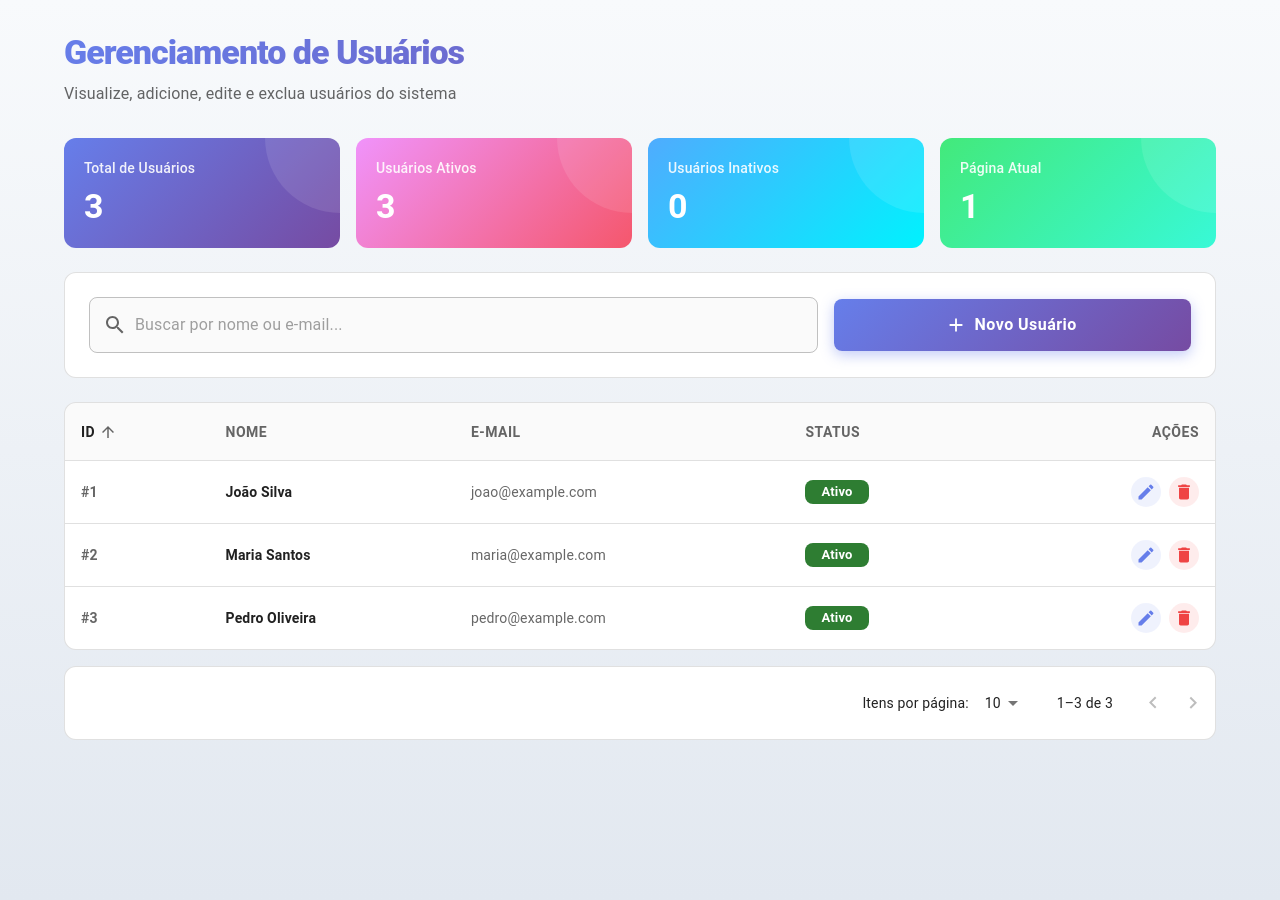
it: Users - Integration Test › deve renderizar lista de usuários e permitir criar novo usuário
Expected: the text "João Silva" is shown, [210,461,455,524]
Expected: the text "maria@example.com" is shown, [455,524,790,587]
Clicar no botão de novo usuário
Step 1. Click the button "Novo Usuário" → (1013, 325), box [834,299,1191,351]
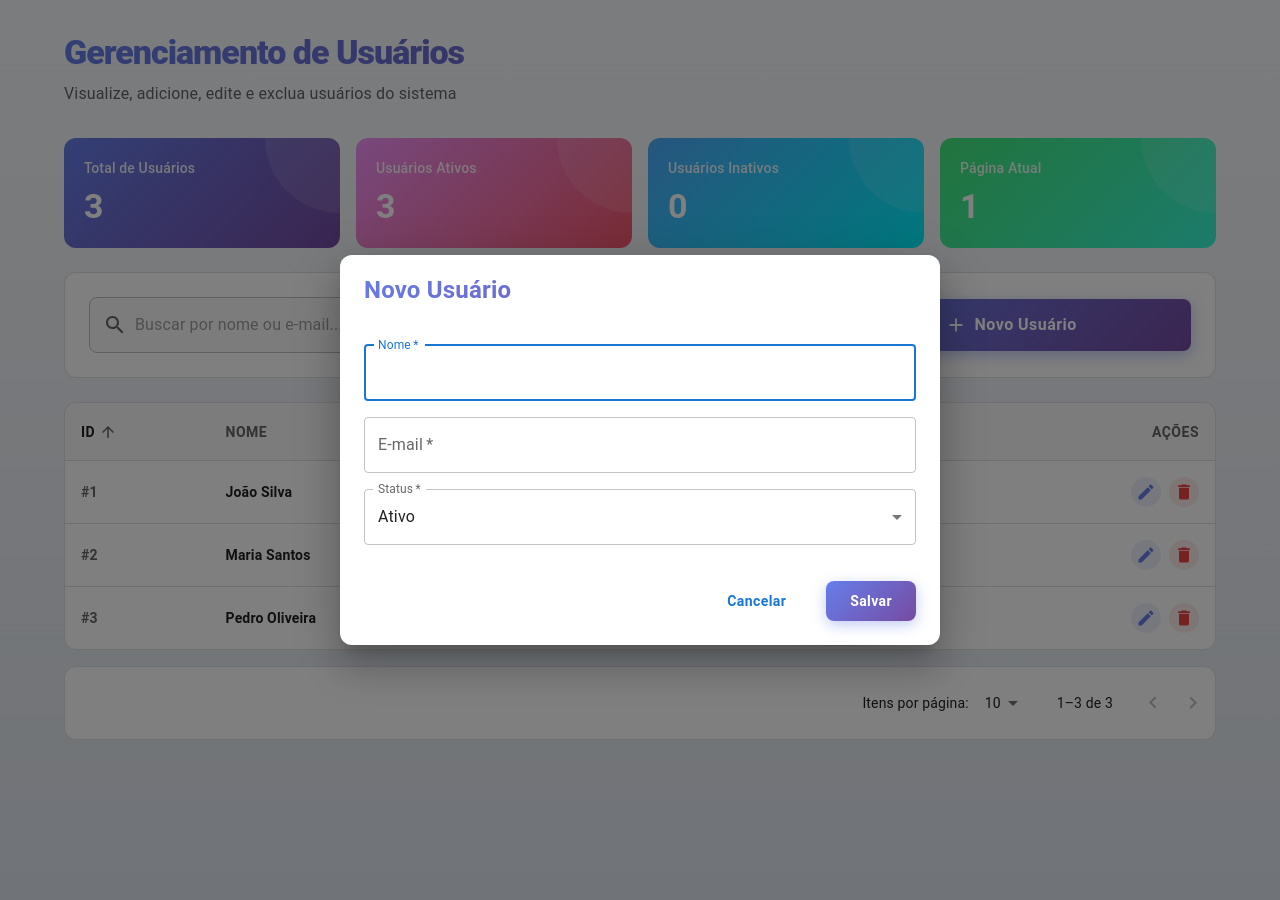
Now the dialog is shown, box [340,254,940,645]
Step 2. Type "Novo Usuário" into the field labelled "Nome *" → (640, 373), box [364,345,916,401]
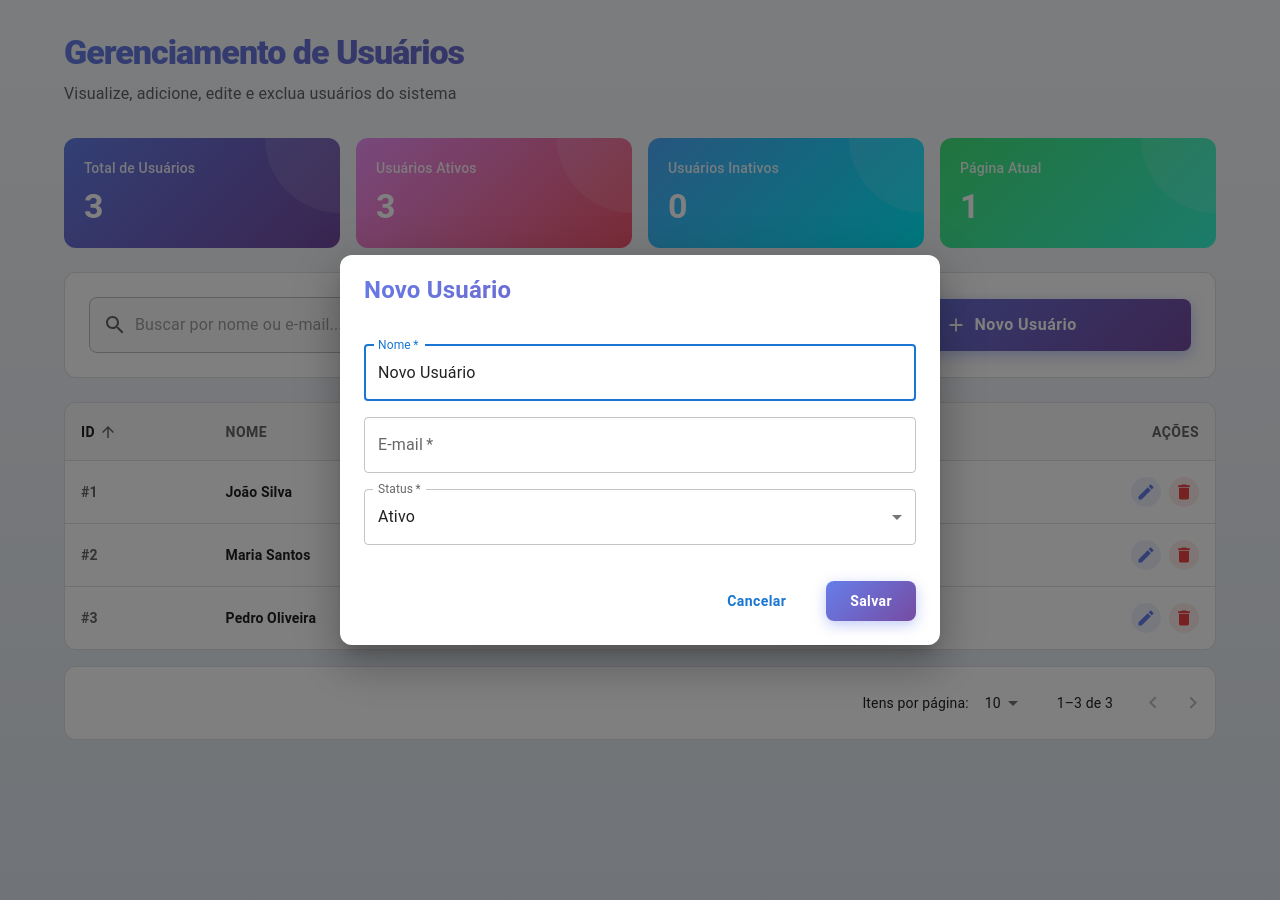
Step 3. Type "novo@example.com" into the field labelled "E-mail *" → (640, 445), box [364,417,916,473]
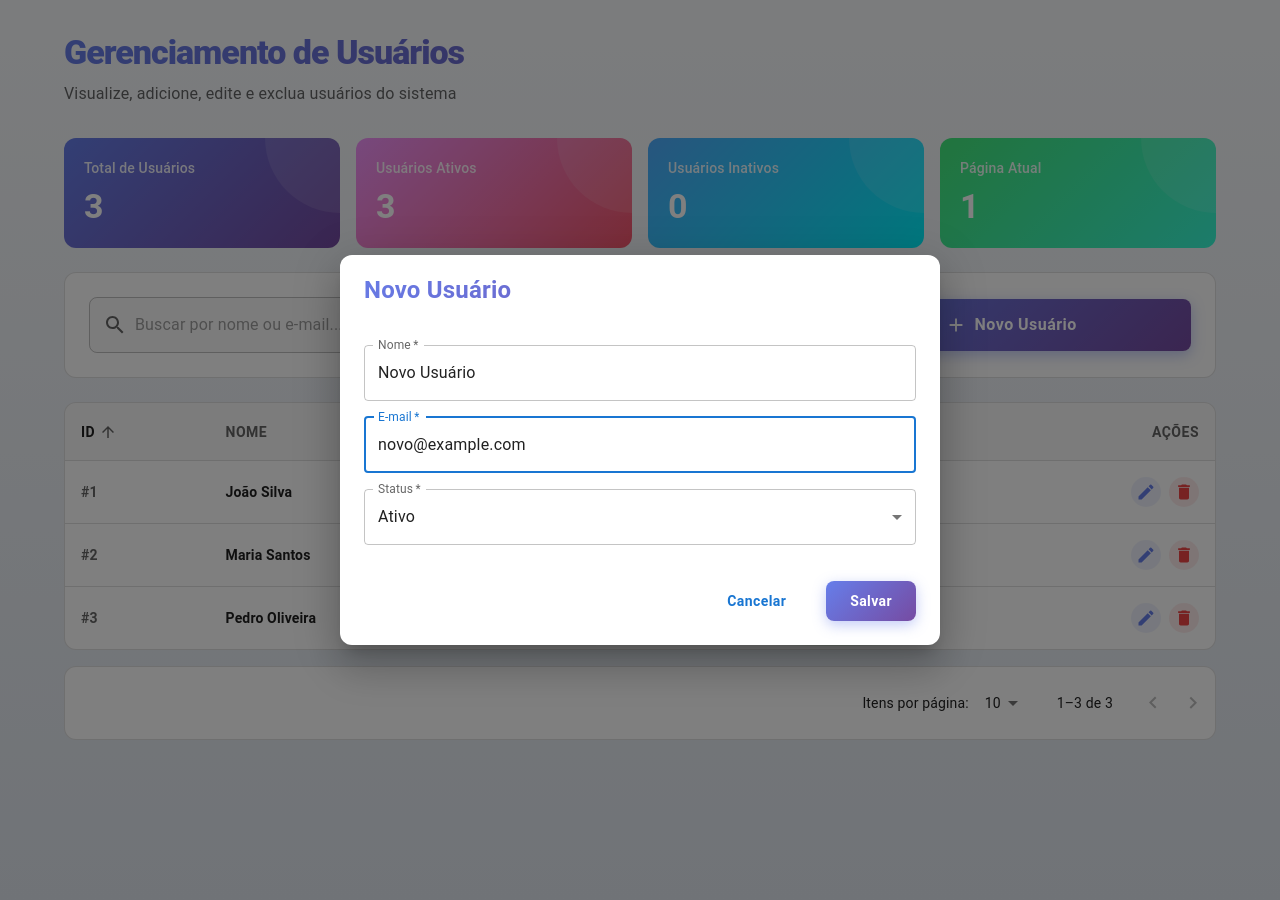
Step 4. Click the dropdown named "status" → (396, 517), box [378,507,415,526]
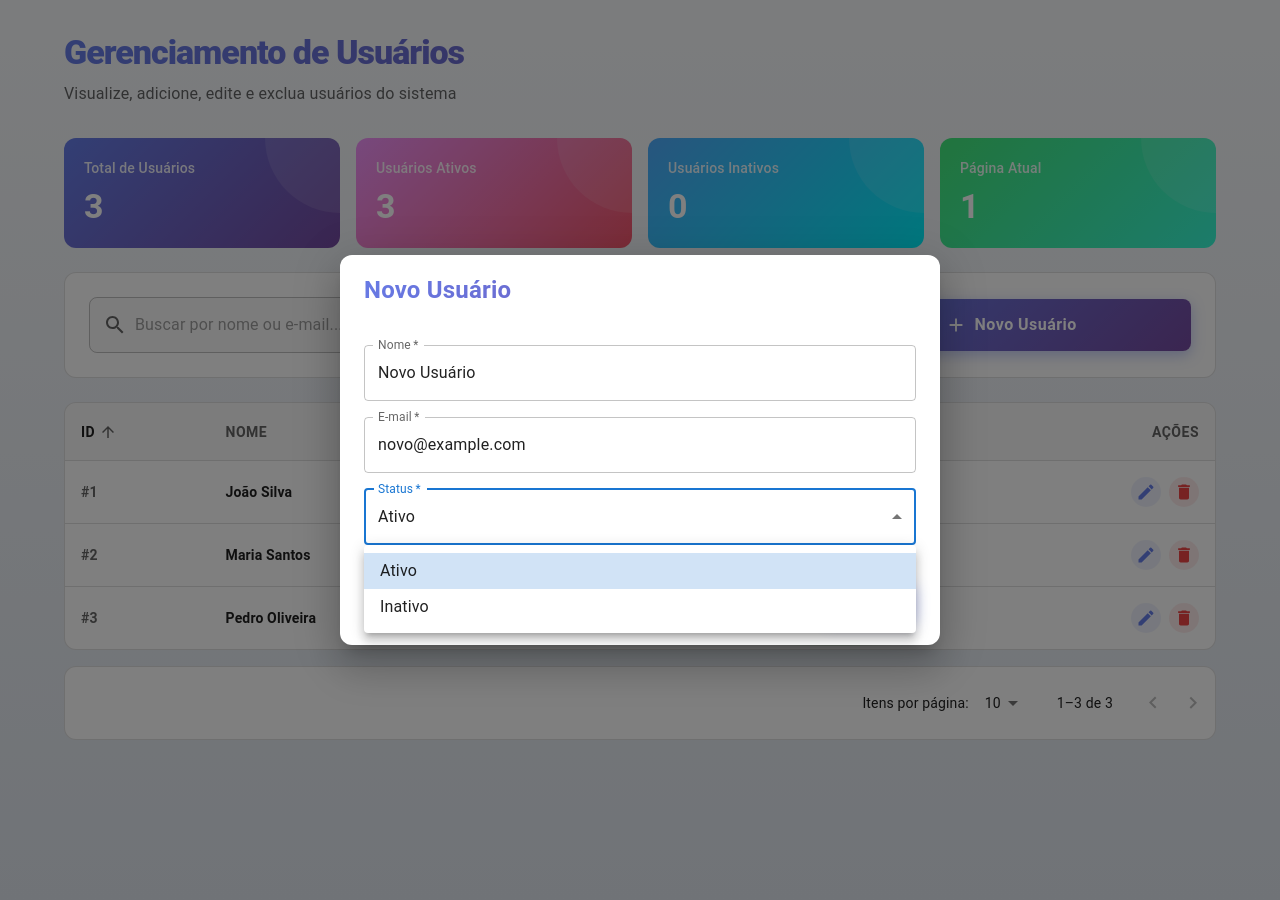
Now the option "Ativo" is shown
Step 5. Click the option "Ativo" → (398, 570), box [364,553,916,589]
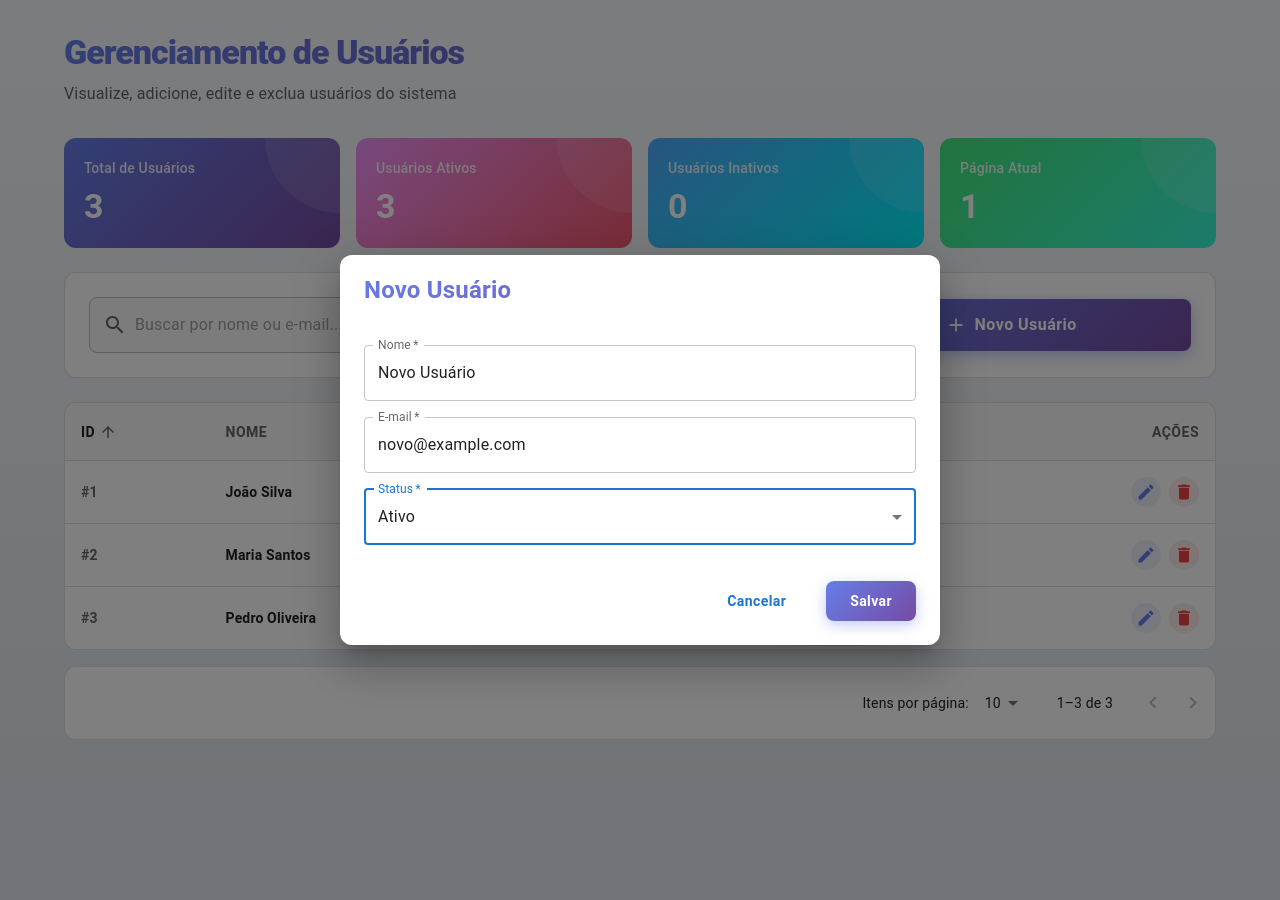
Submeter formulário
Step 6. Click the button "Salvar" → (871, 601), box [826,581,916,621]
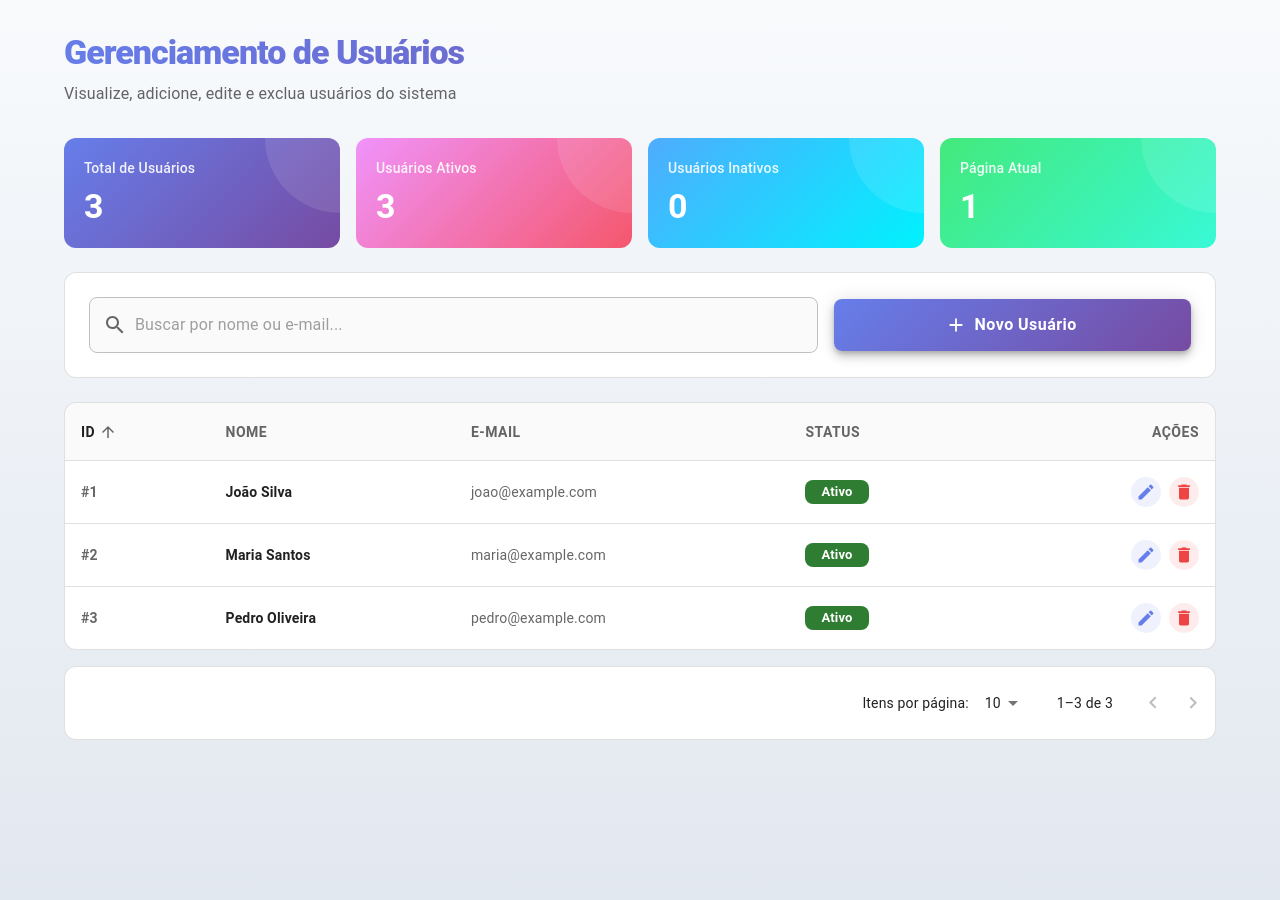
Now the dialog is gone
